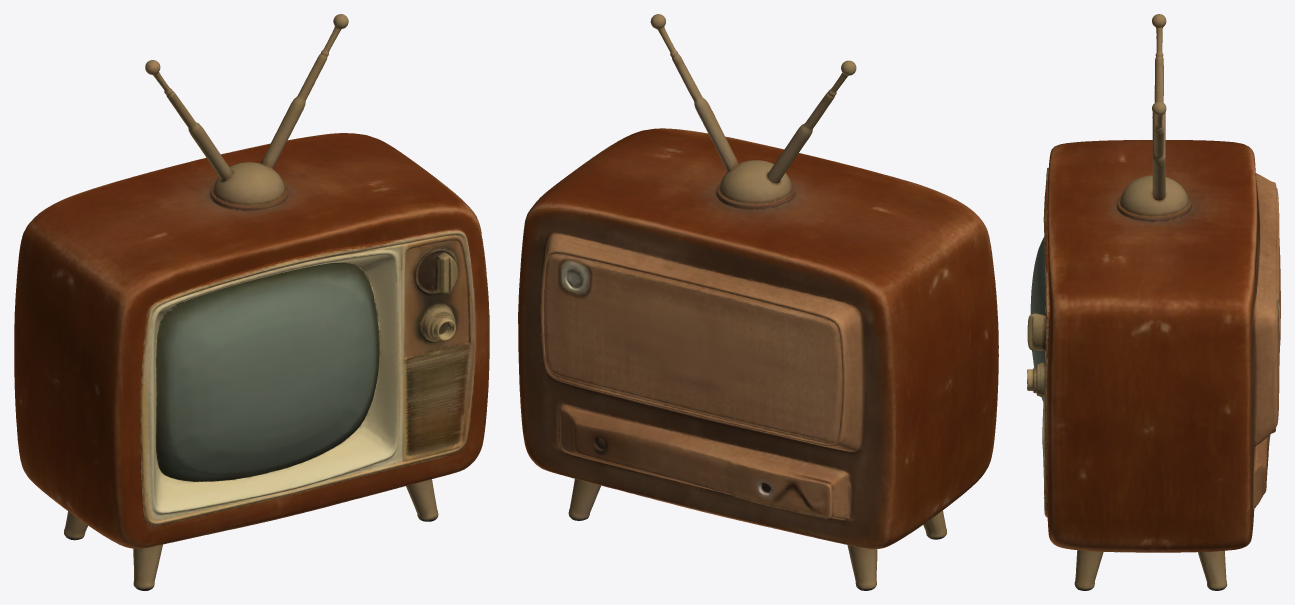
The model's file is crtv.glb.
The picture shows the model from 3 angles, left to right: view 1: azimuth 30°, elevation 25°; view 2: azimuth 150°, elevation 25°; view 3: azimuth 270°, elevation 25°; orthographic projection. The views are drawn at different scales.
Size of the model in its own units: 0.828 by 1 by 0.4972.
1 material, 1 textured.
